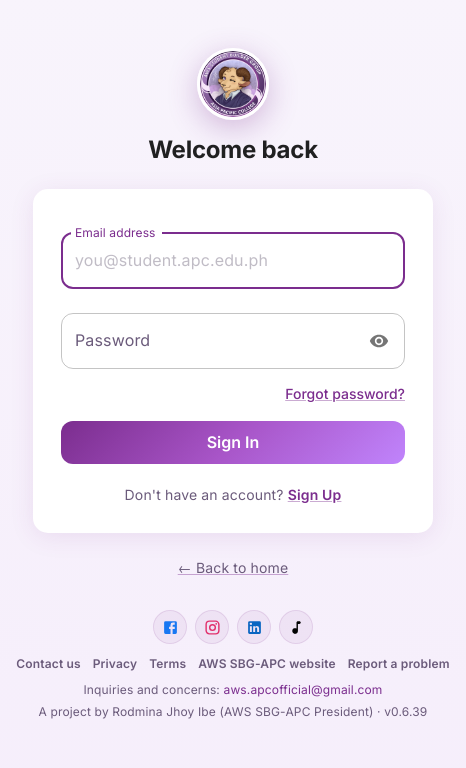
Test: LoginPage › shows an error for invalid credentials
Type "nope" into the field labelled "Email address". click: (233, 261)
box: [61,233,405,289]
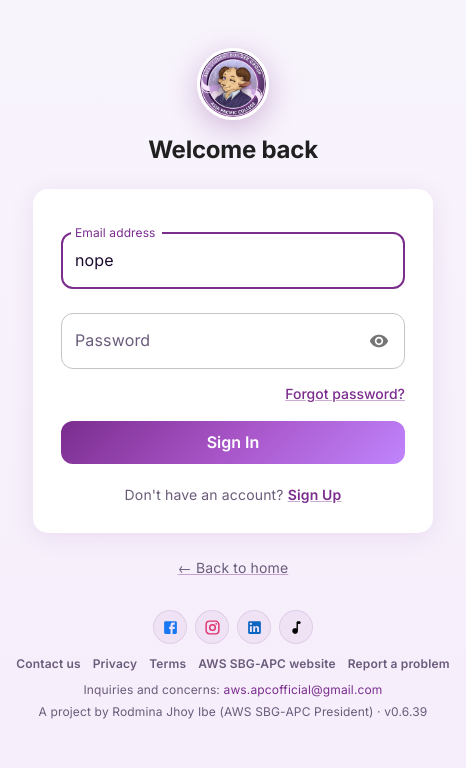
Type "wrong" into the password field labelled "Password". click: (208, 341)
box: [61,313,356,369]
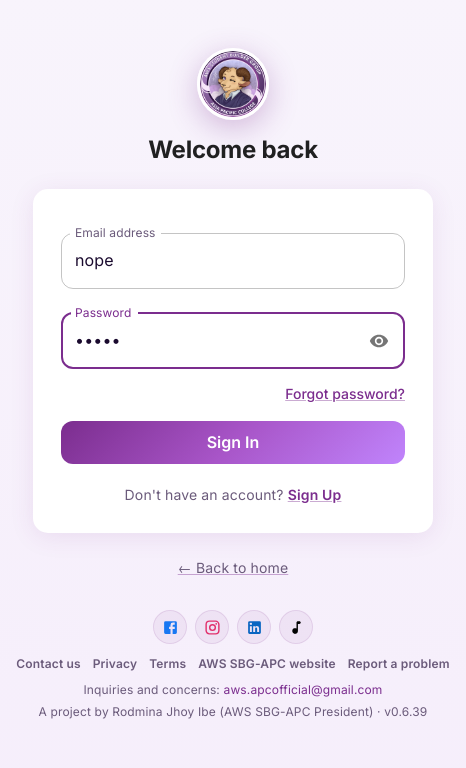
Click the button "Sign In". click: (233, 443)
box: [61,421,405,464]
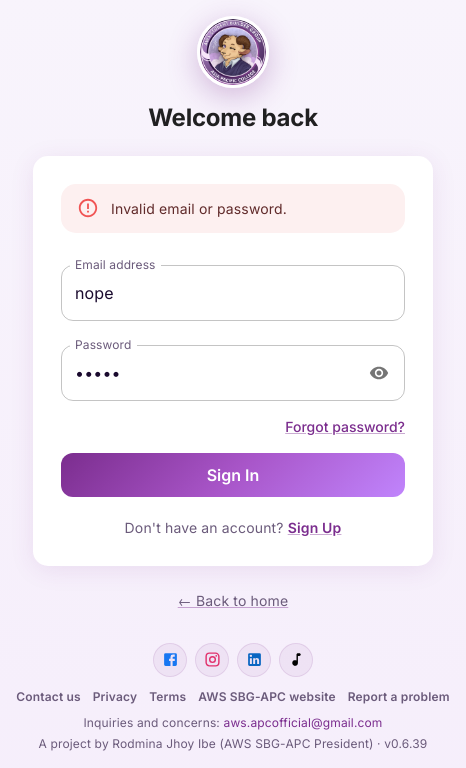
Now the message shows "Invalid email or password", box [111,200,287,218]
